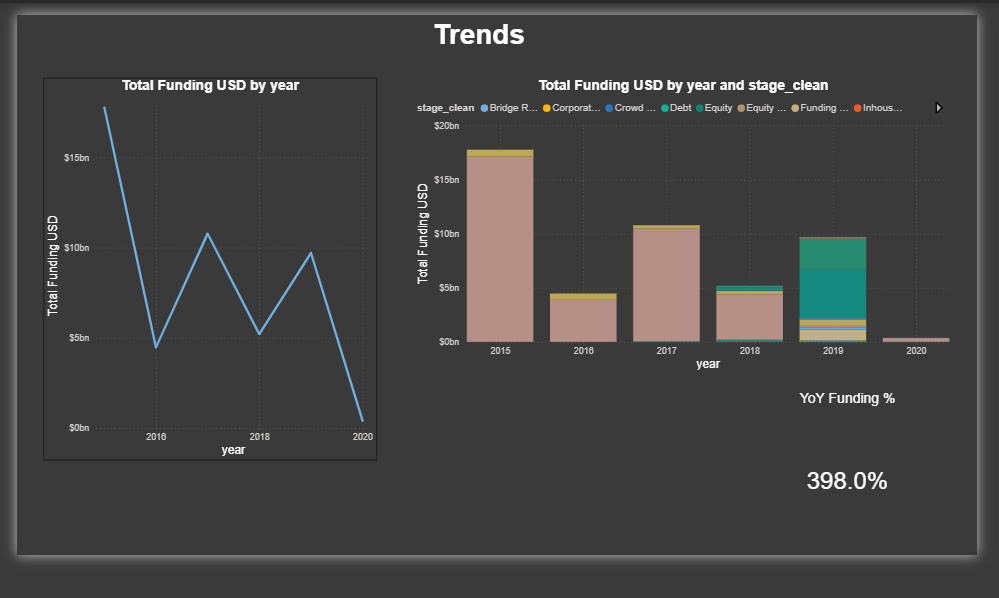

The page's visual inventory and layout, read from the dashboard file:
{"tool":"powerbi","page":{"name":"Trends","canvas":[1280,720],"ordinal":4},"visuals":[{"type":"lineChart","fields":{"Y":["startup_funding_cleaned.Total Funding USD"],"Category":["startup_funding_cleaned.year"]},"box":[35,82.5,445,510],"z":0},{"type":"columnChart","fields":{"Y":["startup_funding_cleaned.Total Funding USD"],"Category":["startup_funding_cleaned.year"],"Series":["startup_funding_cleaned.stage_clean"]},"box":[527.5,82.5,720,395],"z":1000},{"type":"card","title":"YoY Funding %","fields":{"Values":["startup_funding_cleaned.YoY Funding %"]},"box":[935,500,345,220],"z":2000},{"type":"textbox","box":[550,0,137.5,75],"z":2001}]}

Visuals, with their boxes on the page's 1280x720 design canvas (x1, y1, x2, y2). These are canvas units, not pixel positions in the 999x598 screenshot, which may show the page scaled, cropped or inside an application window:
lineChart - startup_funding_cleaned.Total Funding USD x startup_funding_cleaned.year: locate(35, 82, 480, 592)
columnChart - startup_funding_cleaned.Total Funding USD x startup_funding_cleaned.year: locate(528, 82, 1248, 478)
"YoY Funding %" card: locate(935, 500, 1280, 720)
textbox: locate(550, 0, 688, 75)
